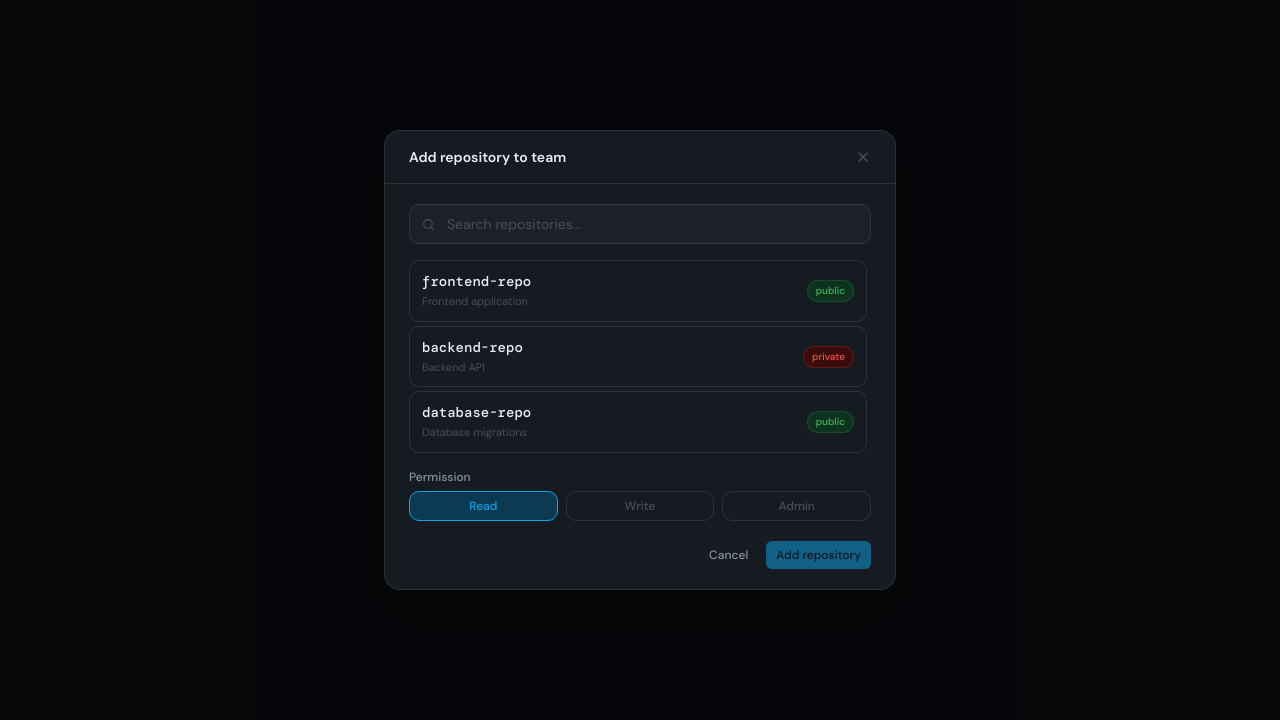
Test: AddTeamRepositoryModal › disables buttons during loading
The image size is (1280, 720).
What coordinates should you click on to do the following:
click the button "frontend-repo"
I would click on:
 (477, 281)
Its box is [409,260,867,322].
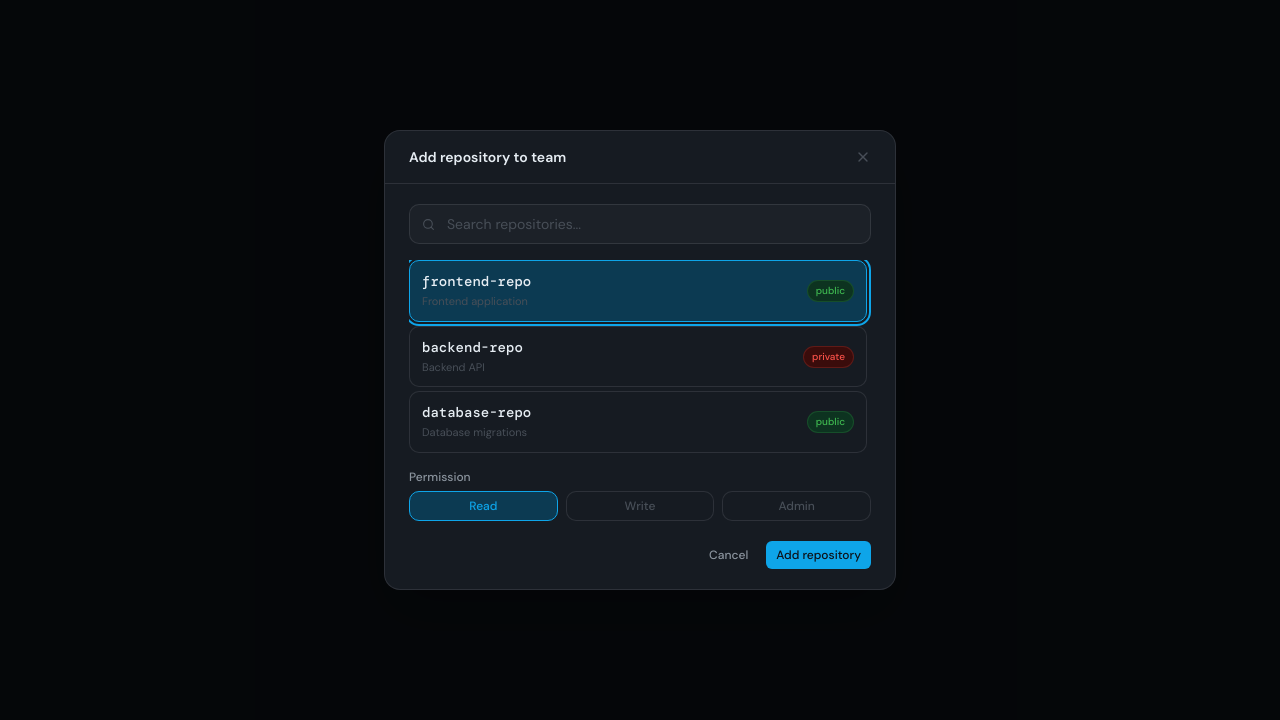
What coordinates should you click on to do the following:
click the button "Add repository"
I would click on:
 (819, 555)
Its box is [766,541,871,569].
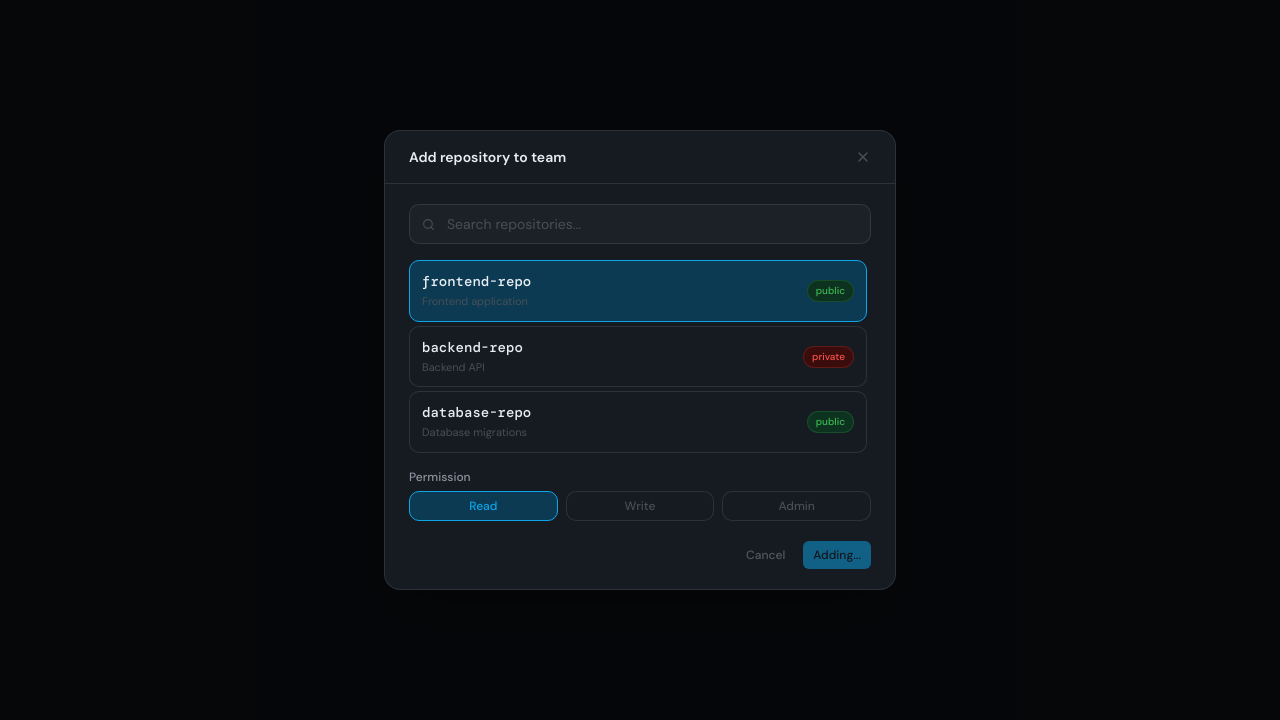
Result: the button "Cancel" is disabled at [736,541,795,569]
Result: the button "Add repository" is disabled at [803,541,871,569]
